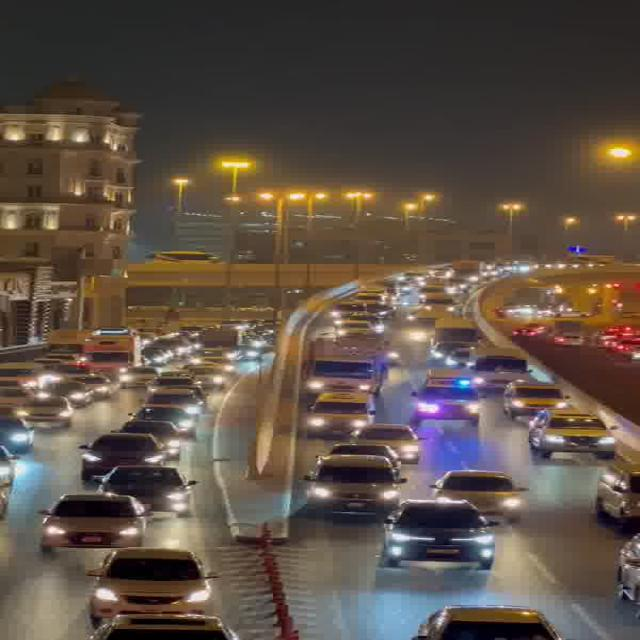ambulance: (406, 367, 481, 425)
